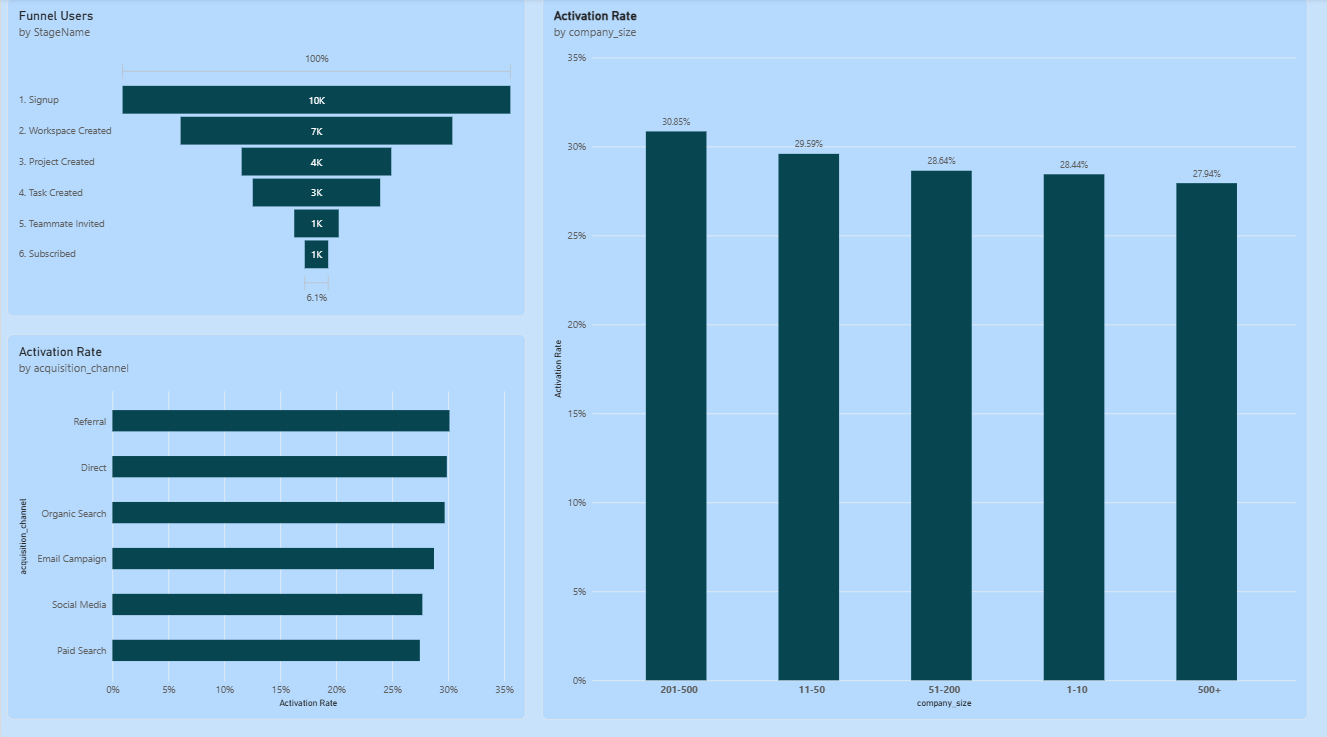

Layout of this report page (visuals, bound fields, positions):
{"tool":"powerbi","page":{"name":"Funnel & Activation","canvas":[1920,1080],"ordinal":1},"visuals":[{"type":"funnel","fields":{"Category":["FunnelStages.StageName"],"Y":["_Measures.Funnel Users"]},"box":[9.4,0,750.6,460.4],"z":0},{"type":"clusteredBarChart","fields":{"Category":["users.acquisition_channel"],"Y":["_Measures.Activation Rate"]},"box":[9.4,486.6,750.6,557.8],"z":1000},{"type":"columnChart","fields":{"Category":["users.company_size"],"Y":["_Measures.Activation Rate"]},"box":[784.2,0,1108.1,1044.4],"z":2000}]}

Visuals, with their boxes in screenshot pixels (x1, y1, x2, y2), scaled from the page's 1920x1080 canvas onto the 1327x737 screenshot:
funnel - FunnelStages.StageName x _Measures.Funnel Users: [6,0,525,314]
clusteredBarChart - users.acquisition_channel x _Measures.Activation Rate: [6,332,525,713]
columnChart - users.company_size x _Measures.Activation Rate: [542,0,1308,713]
